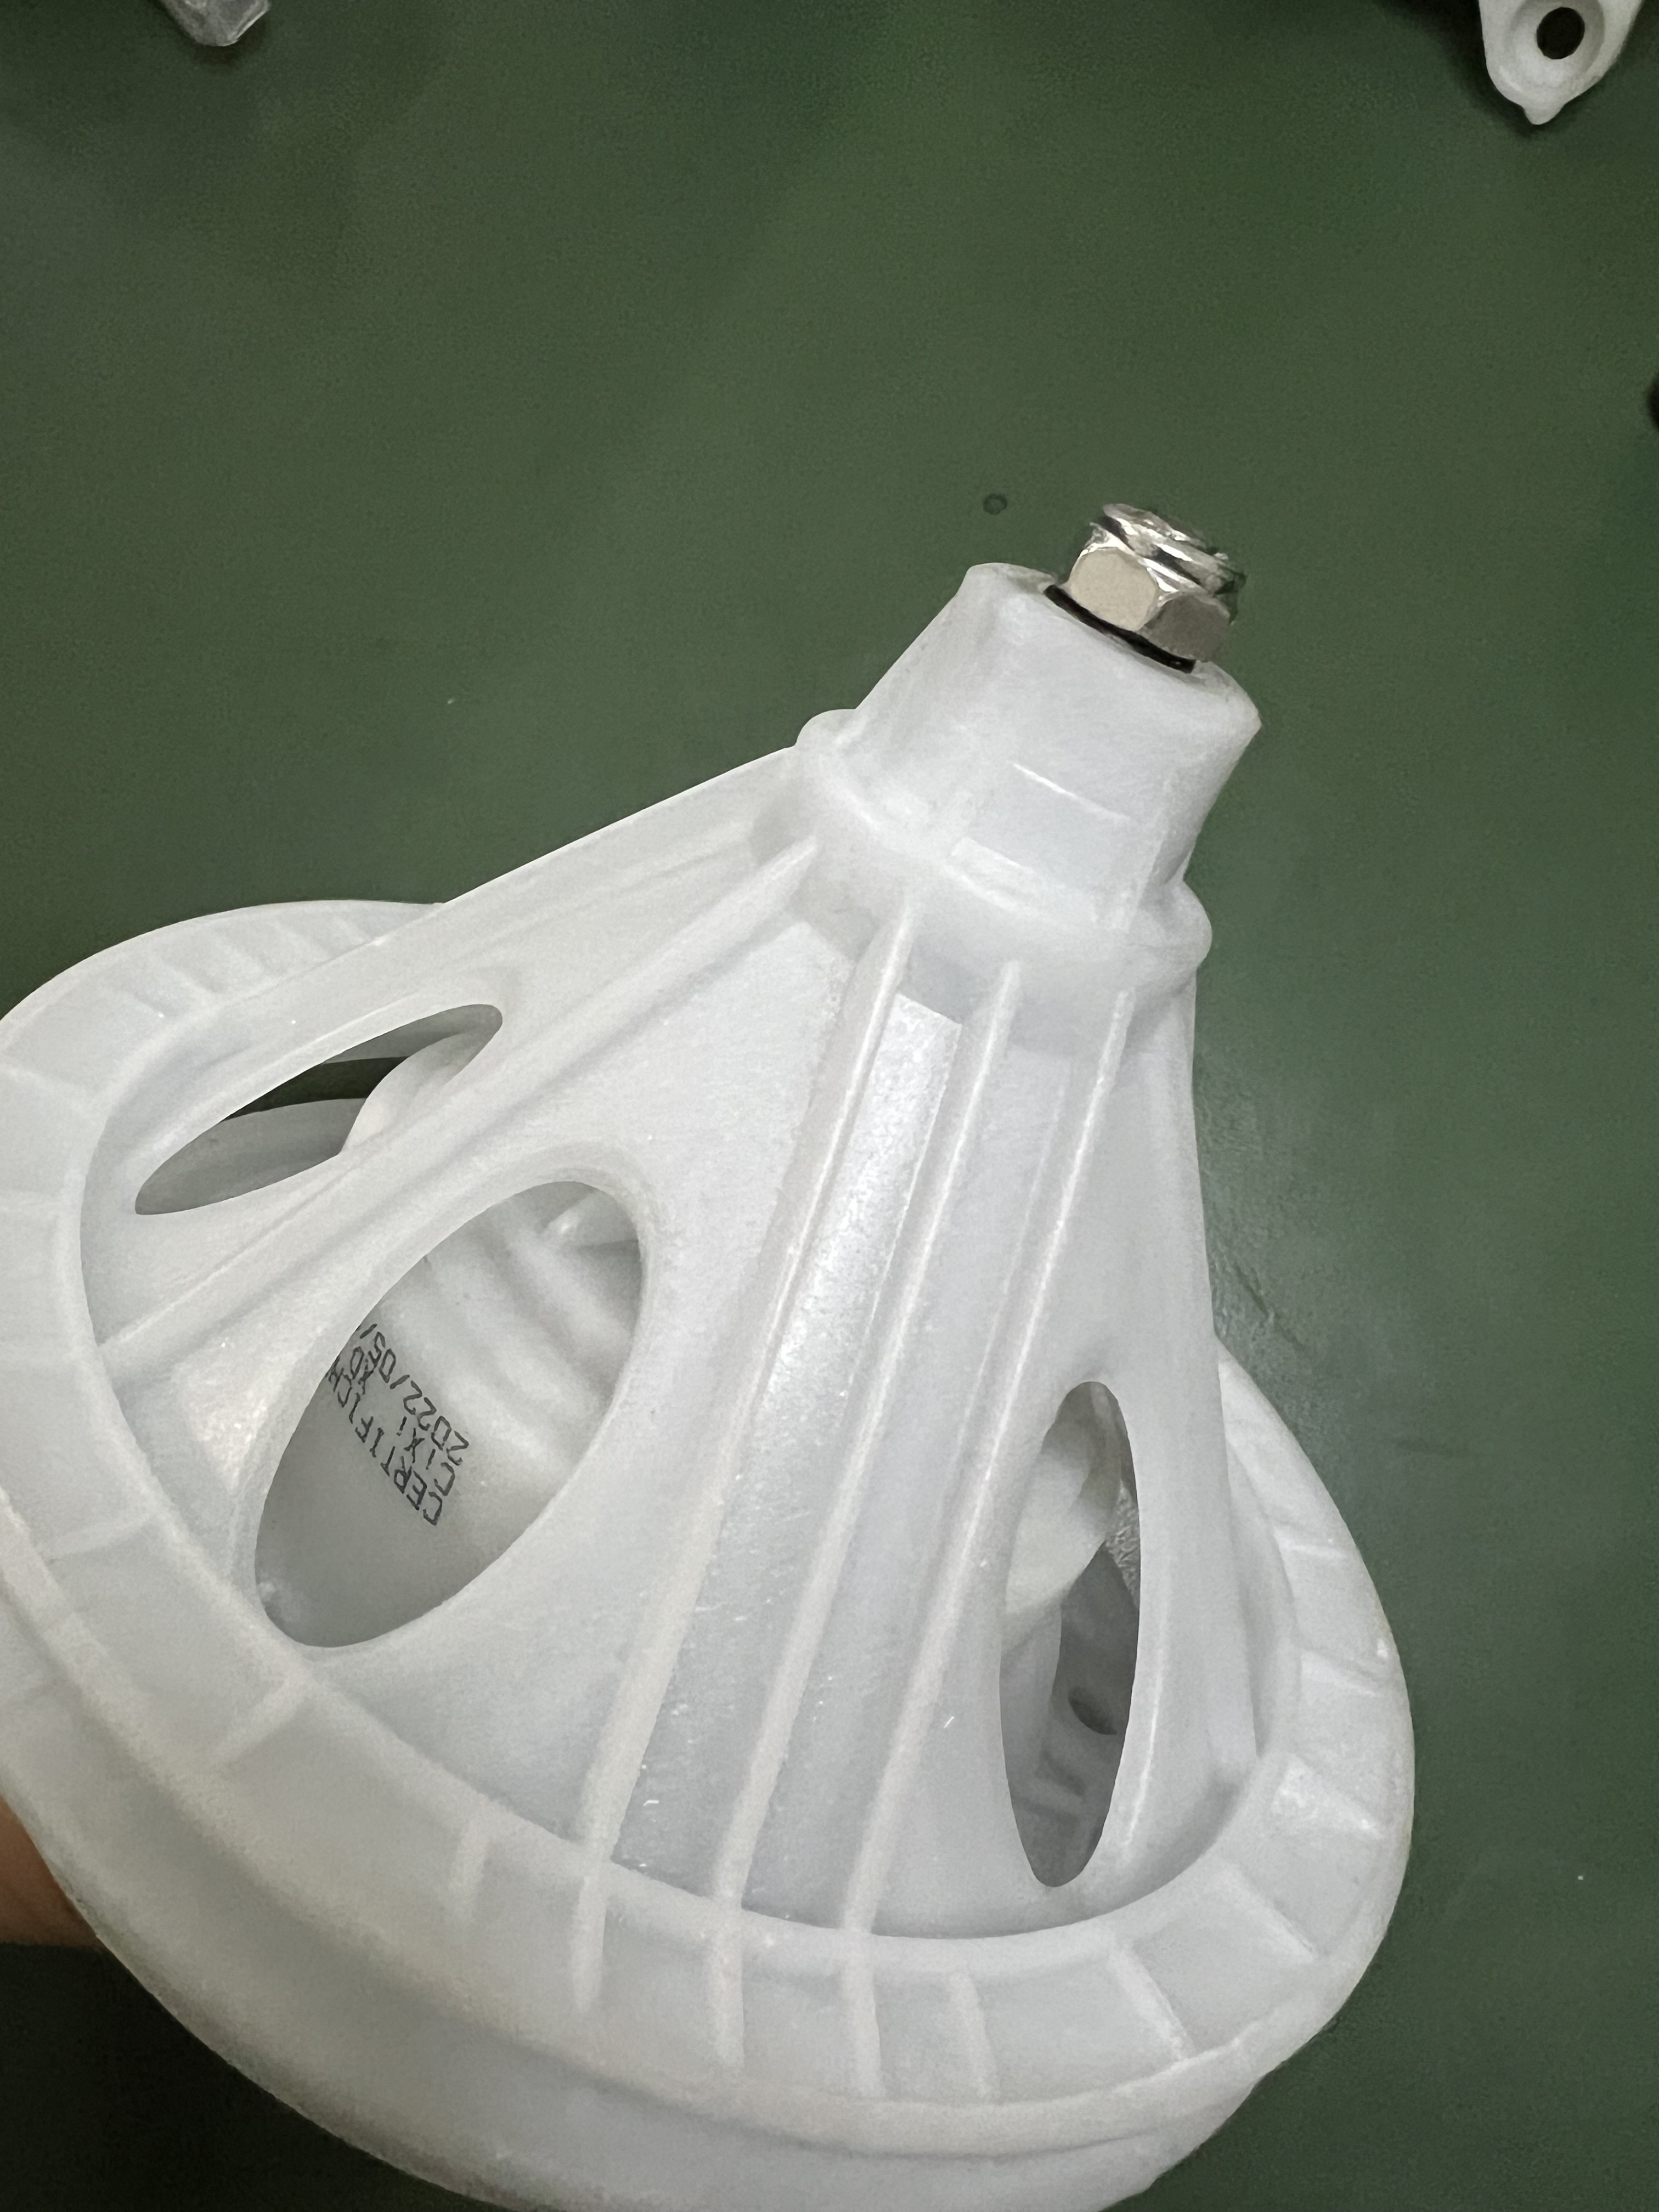gear_box_circle: (3, 507, 1443, 2212)
